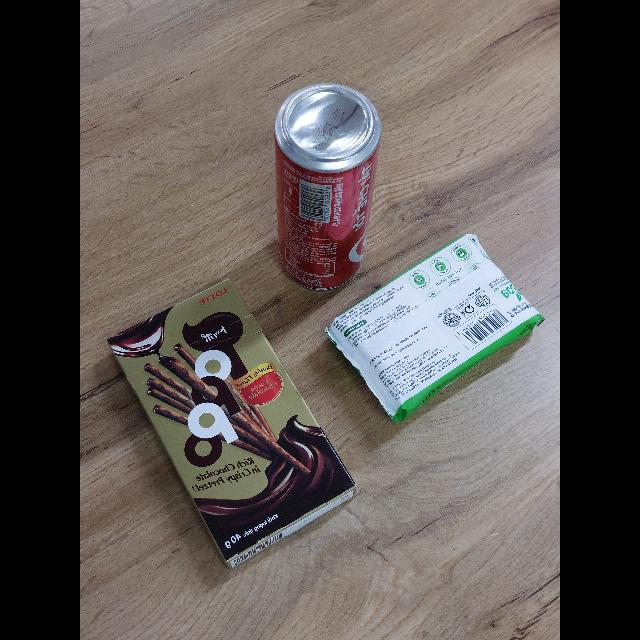banh_toppo_socola: (108, 280, 355, 568)
coca_cola: (274, 84, 381, 290)
khan_giay: (326, 234, 544, 423)
